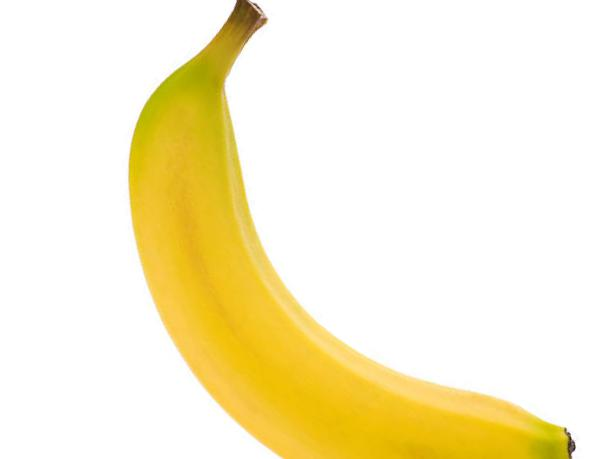banana: (126, 3, 581, 459)
